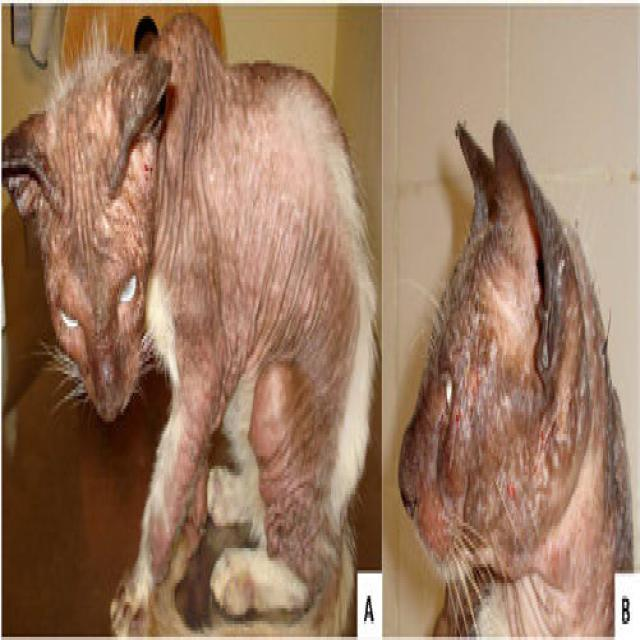cat-hairloss: (170, 71, 334, 344), (58, 91, 118, 389), (564, 463, 614, 634), (272, 380, 317, 567)
